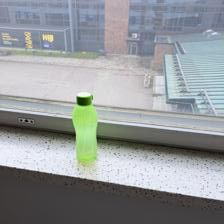bottle: (68, 89, 101, 164)
